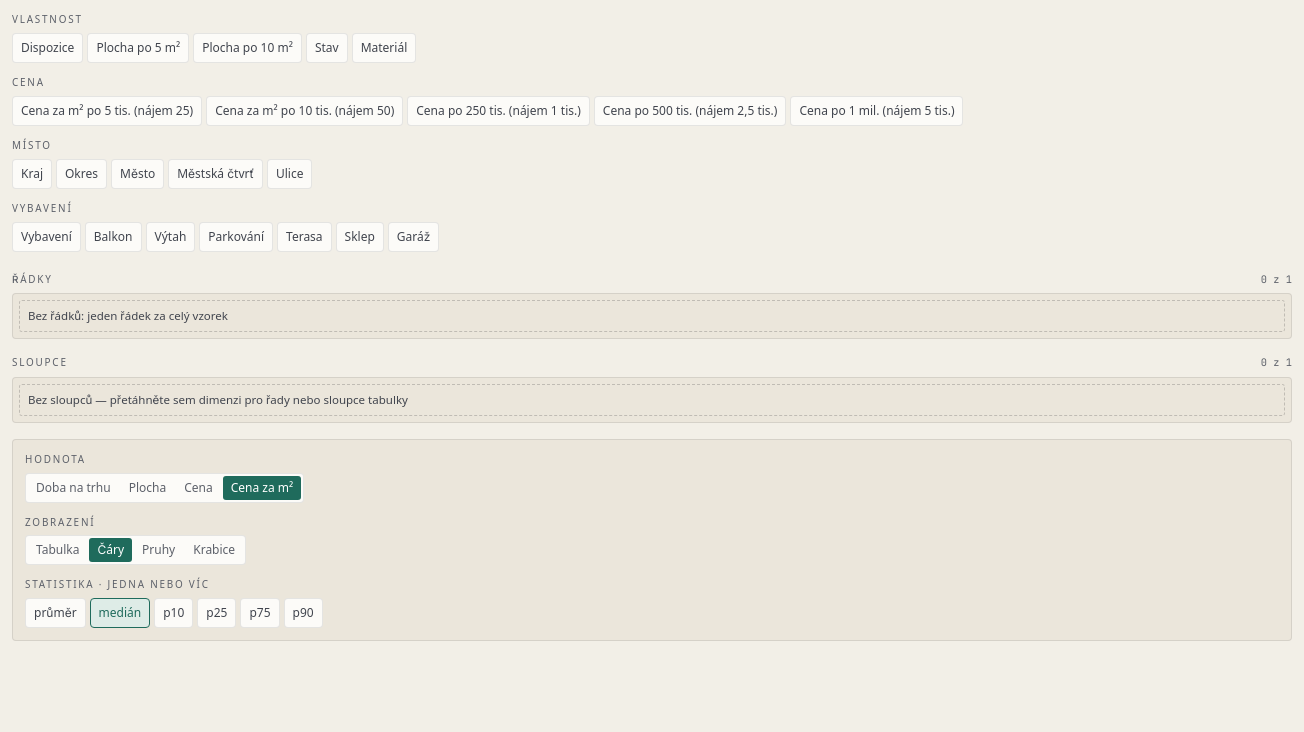
it: <ChartBuilder> — every drag has a click path › line takes one row: the next chip goes to Sloupce, and a full board disables the rest
The image size is (1304, 732).
What coordinates should you click on to do the following:
click the button with aria-label "Přidat Dispozice do Řádků"
I would click on:
 (48, 48)
Its box is [12, 33, 83, 63].
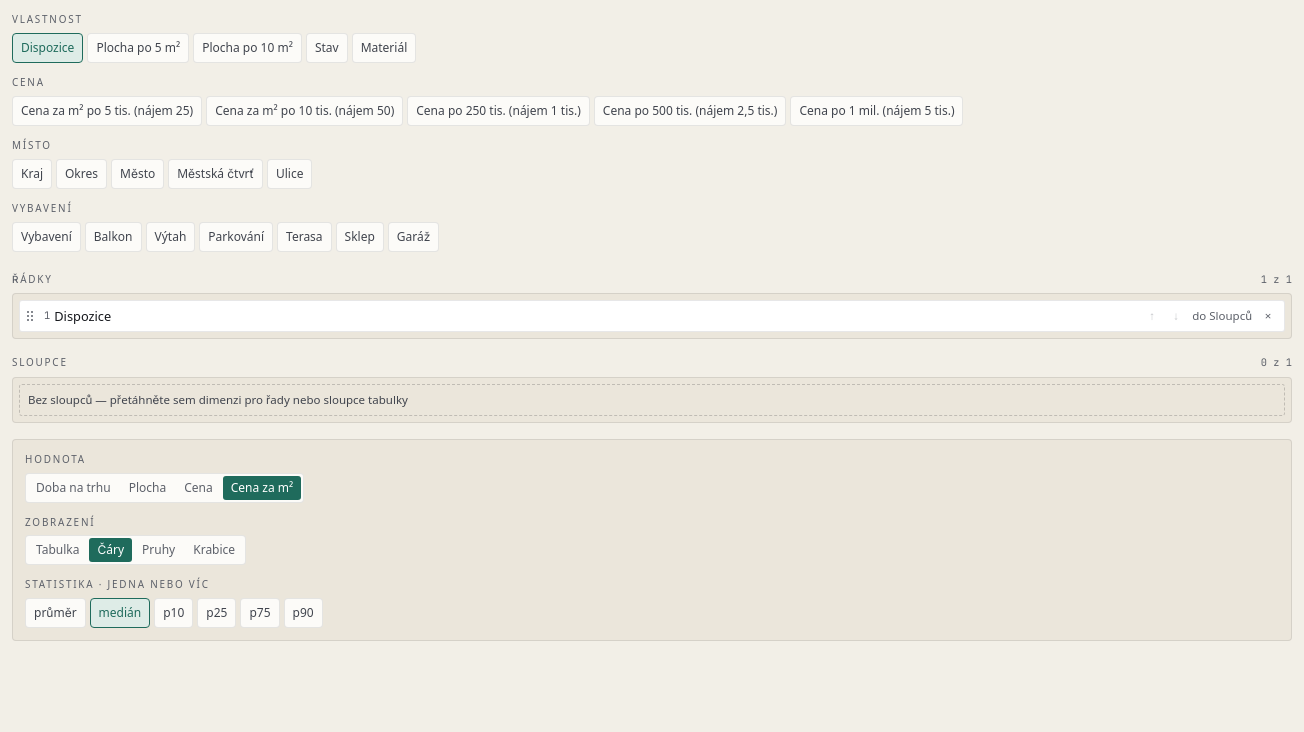
What coordinates should you click on to do the following:
click the button with aria-label "Přidat Stav do Sloupců"
I would click on:
 (327, 48)
Its box is [306, 33, 348, 63].
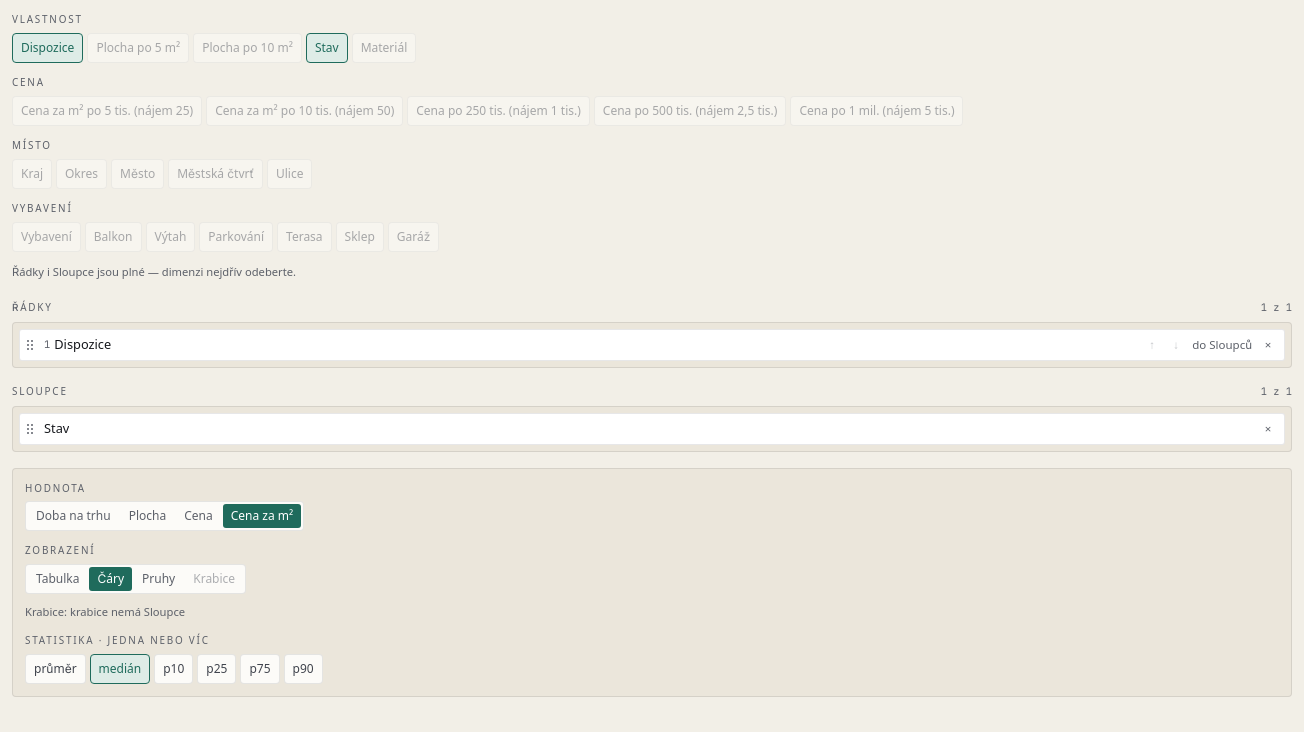
expect the button with aria-label "Materiál — Řádky i Sloupce jsou plné" is disabled: met, box [352, 33, 416, 63]
expect the text "Řádky i Sloupce jsou plné — dimenzi nejdřív odeberte." is shown: met, box [12, 264, 296, 278]
